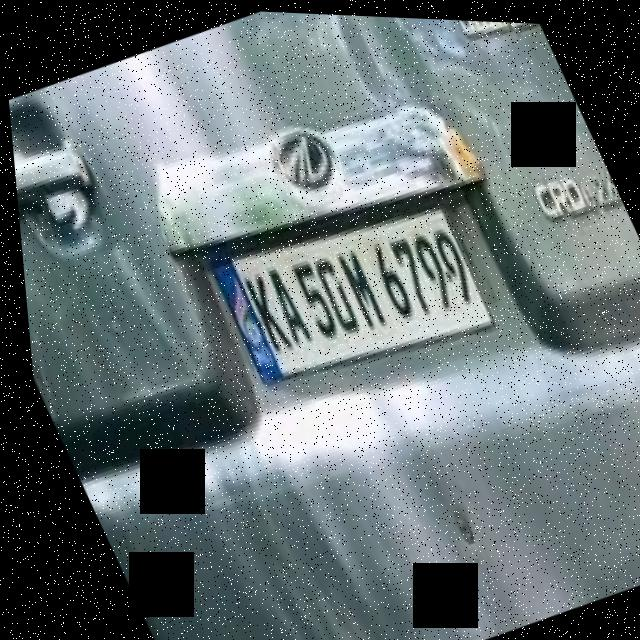0: (301, 242, 362, 334)
5: (279, 247, 344, 348)
6: (356, 232, 414, 322)
7: (379, 227, 441, 324)
9: (401, 222, 459, 315), (420, 212, 476, 302)
A: (252, 256, 313, 352)
K: (230, 263, 292, 360)
M: (331, 242, 394, 338)
